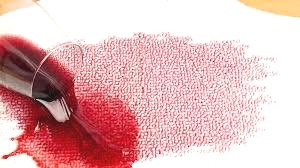wine: (60, 37, 253, 147), (20, 88, 129, 163)
